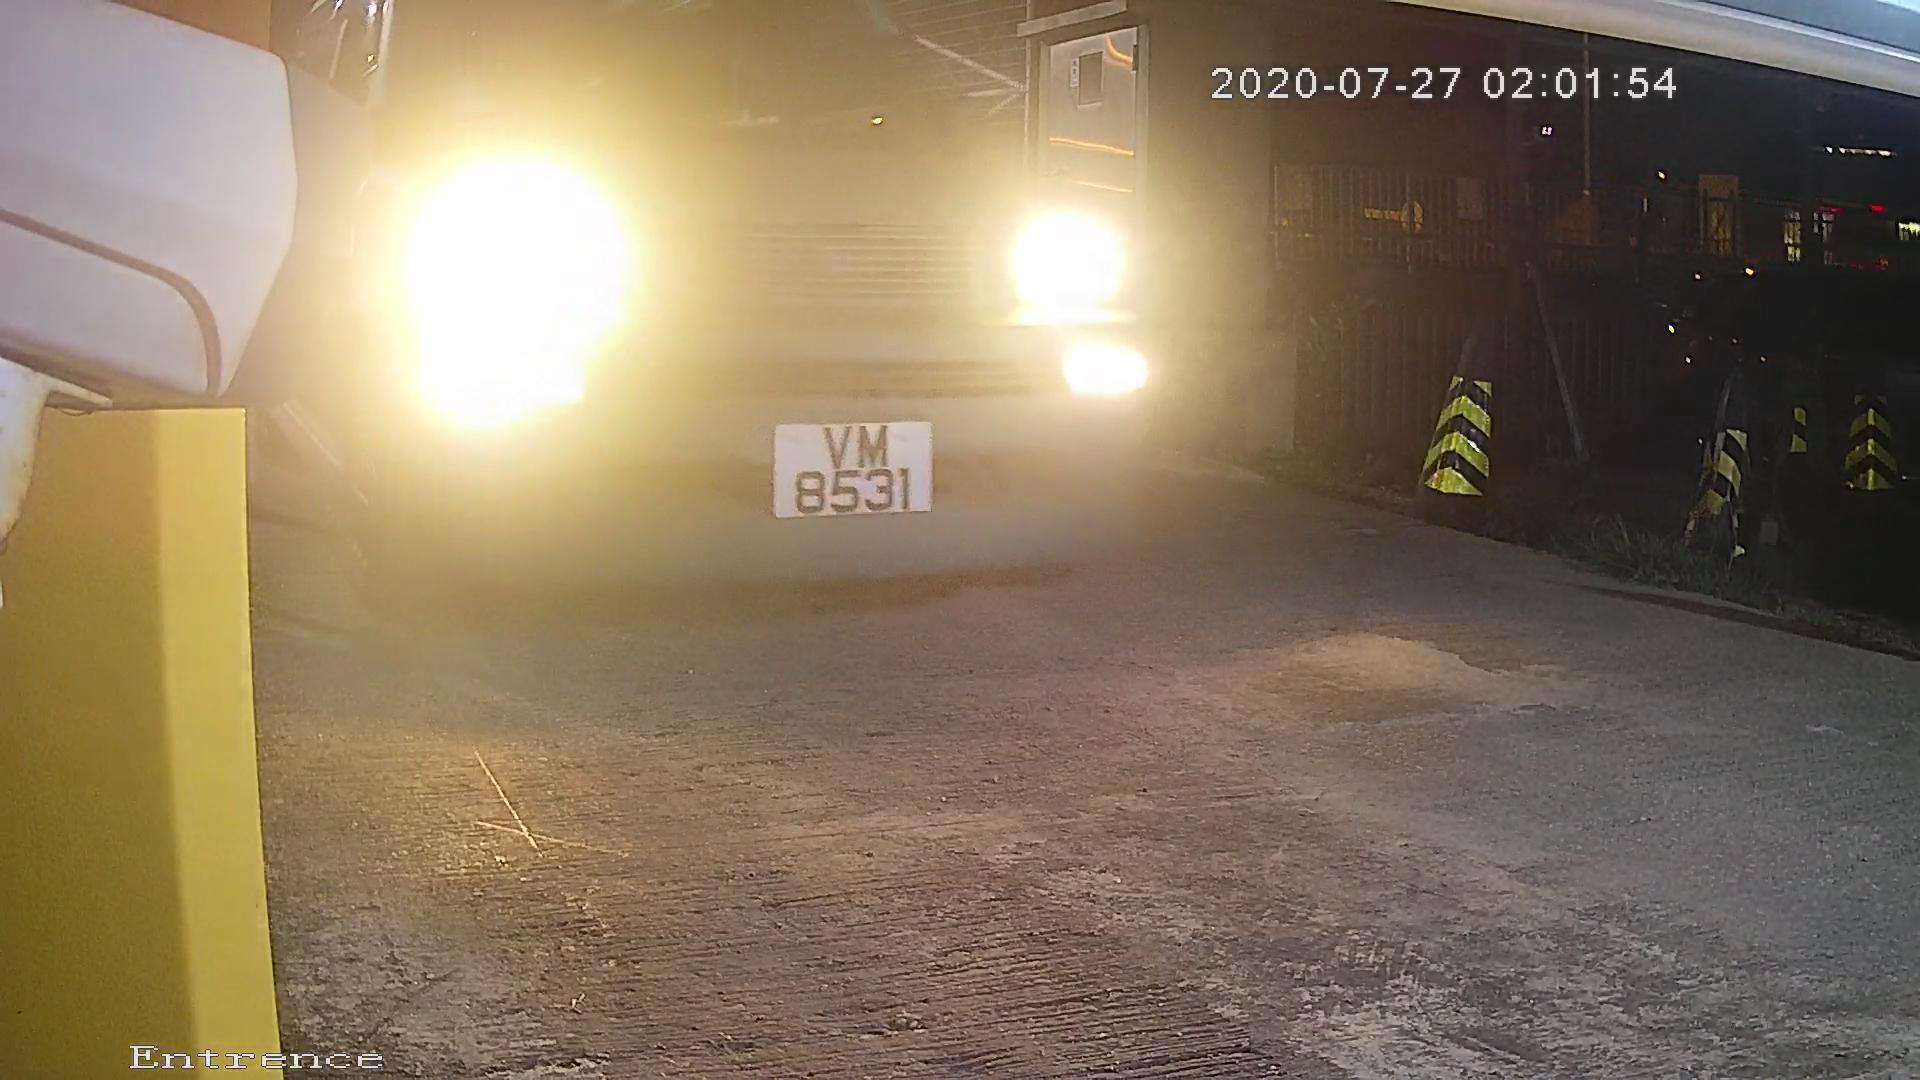License Plate: (721, 391, 952, 536)
